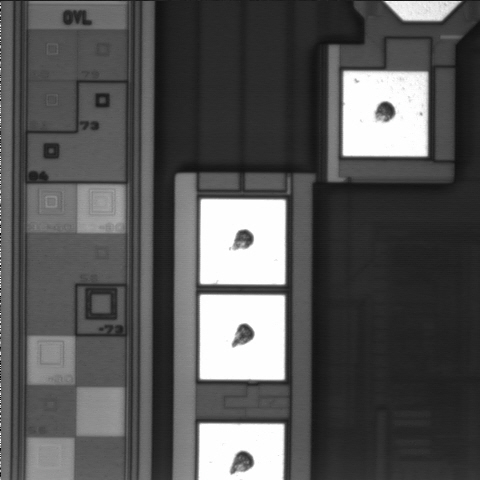pad: (200, 199, 285, 284), (200, 295, 285, 380), (343, 71, 427, 156)
